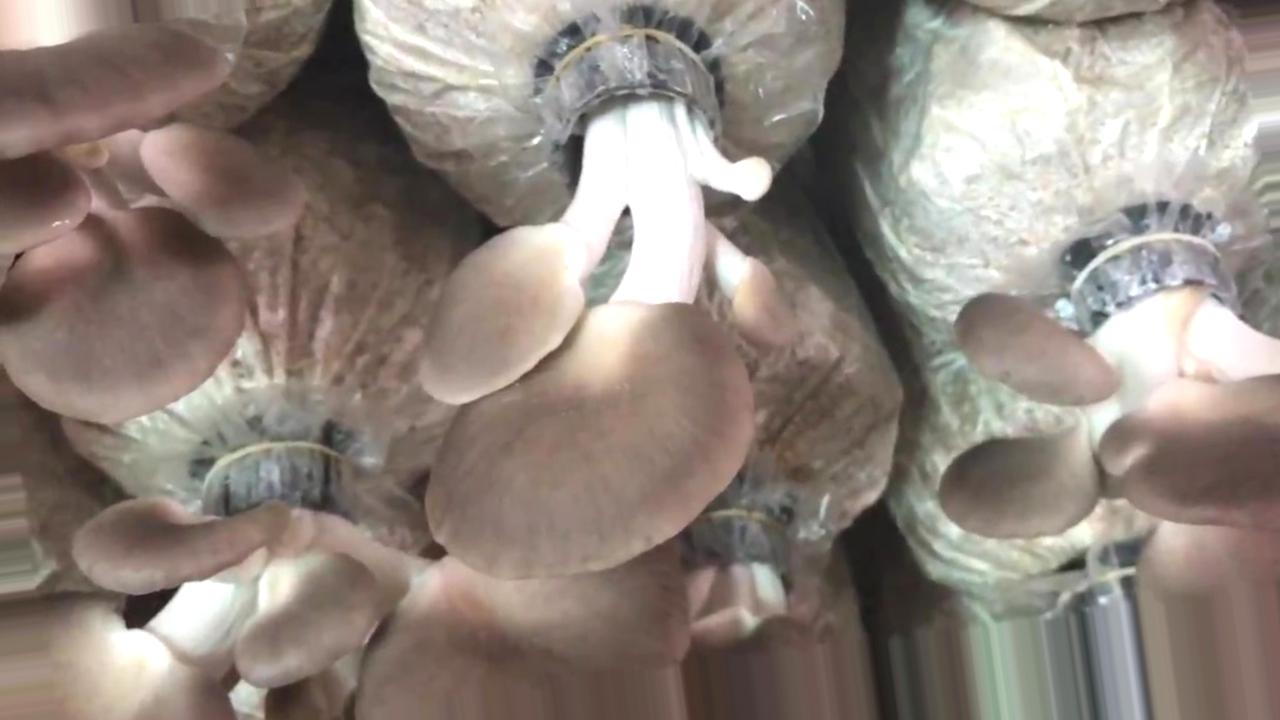nam: (423, 14, 799, 577), (1, 448, 684, 719), (2, 1, 330, 427), (934, 213, 1280, 540), (683, 468, 874, 720)
